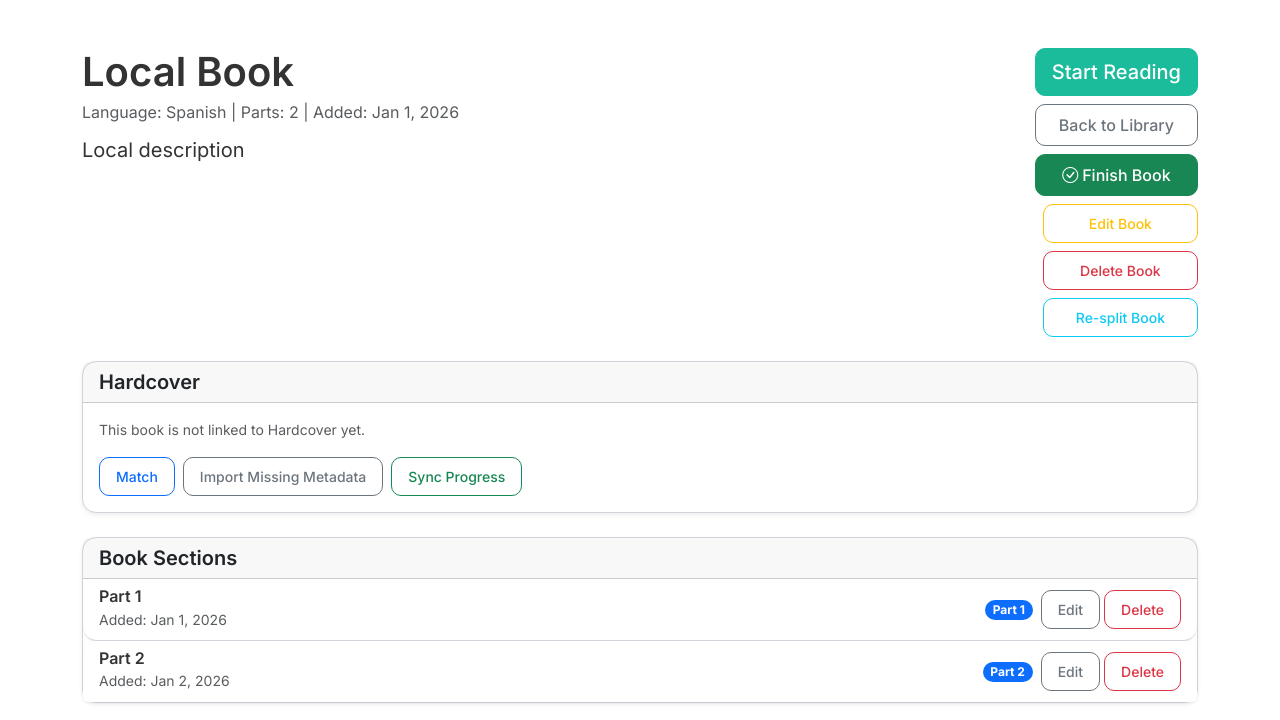
Test case: BookDetail Hardcover integration › imports missing metadata and refreshes book details
Expected: the text "This book is not linked to Hardcover yet." is shown, x1=99 y1=421 x2=365 y2=438
Click the button "Import Missing Metadata": (283, 477) x1=183 y1=457 x2=383 y2=496
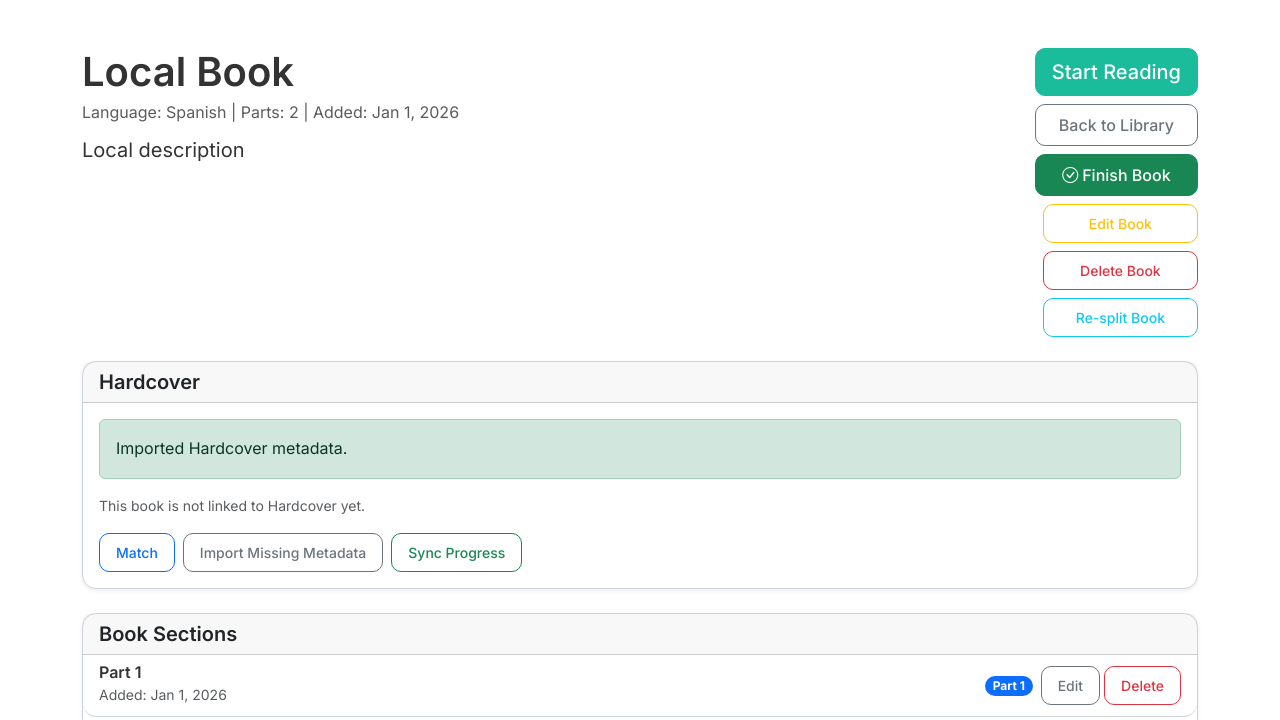
Result: the text "Imported Hardcover metadata." is shown at x1=99 y1=419 x2=1181 y2=479
